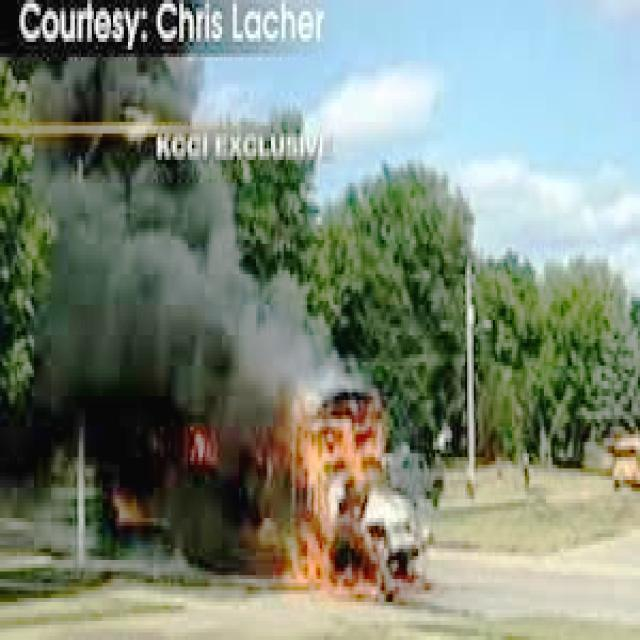api: (289, 397, 389, 512), (291, 527, 417, 614), (182, 413, 223, 478)
